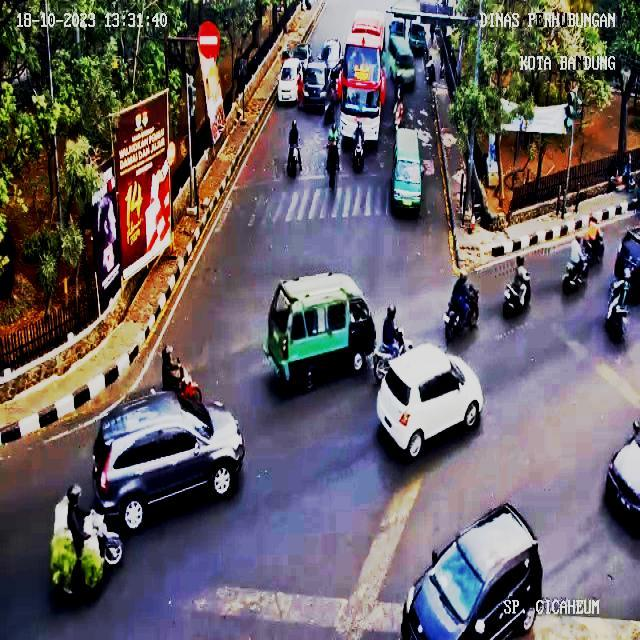bus: (339, 11, 386, 143)
car: (94, 350, 245, 531), (401, 504, 542, 640), (376, 344, 484, 457), (614, 225, 640, 303), (301, 61, 329, 109), (278, 58, 302, 102), (305, 68, 325, 84)
minivan: (265, 272, 375, 389)
motorcyclist: (371, 306, 406, 383), (444, 274, 479, 342), (66, 484, 90, 561), (502, 256, 531, 318), (562, 236, 589, 294), (325, 125, 340, 191), (286, 120, 302, 177), (351, 121, 365, 173)
